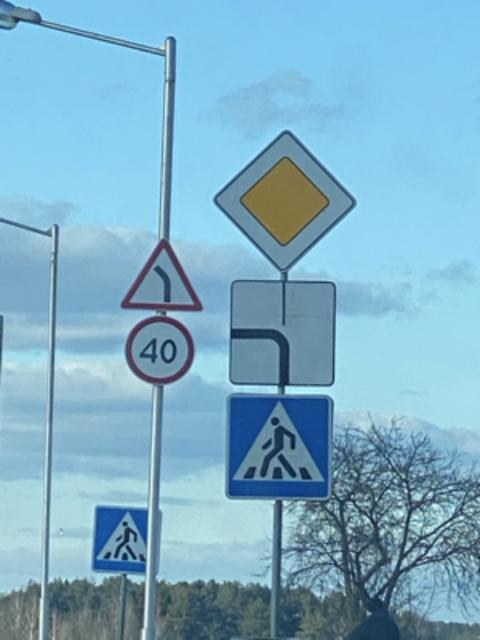crosswalk-sign: (229, 400, 326, 498), (92, 508, 162, 576)
